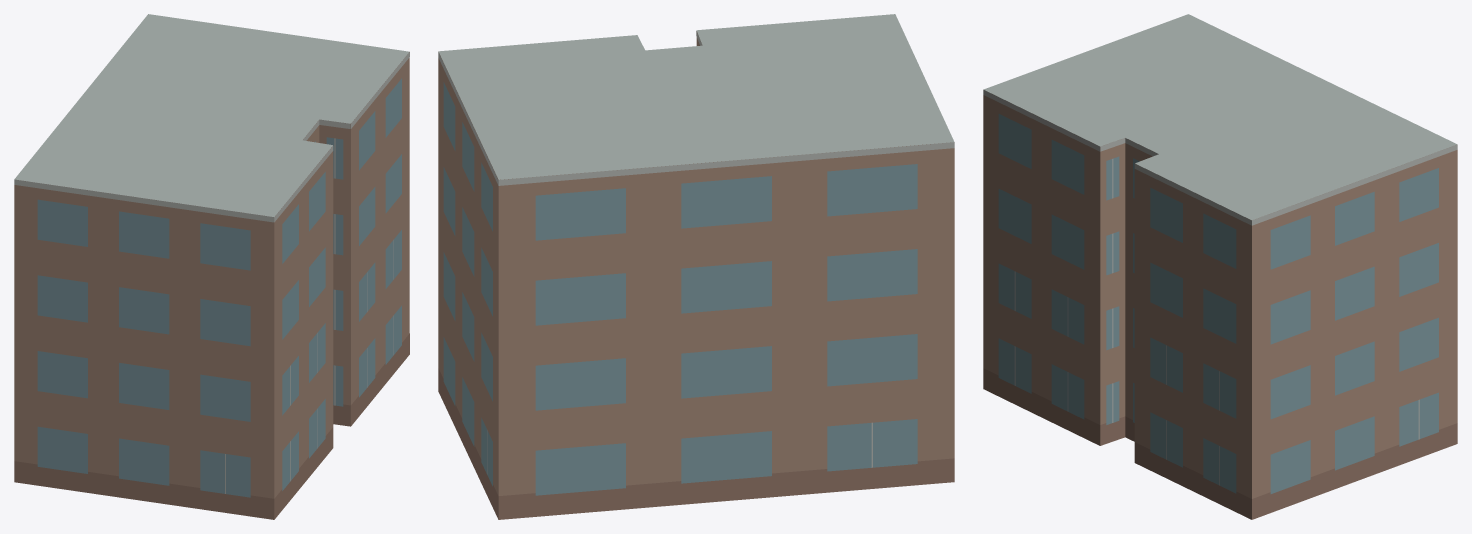
Rendered from survey-upis-32843761.glb.
3 renders of one model, left to right at view 1: azimuth 30°, elevation 25°; view 2: azimuth 150°, elevation 25°; view 3: azimuth 270°, elevation 25°, orthographic. The views are drawn at different scales.
Visible parts, largest first — view 1: survey-upis-32843761.tmp; view 2: survey-upis-32843761.tmp; view 3: survey-upis-32843761.tmp.
Boxes of the visible parts, left/top/right/bottom form: survey-upis-32843761.tmp: left=14, top=14, right=409, bottom=519; survey-upis-32843761.tmp: left=438, top=14, right=954, bottom=519; survey-upis-32843761.tmp: left=983, top=14, right=1457, bottom=519.
Size of the model in its own units: 20.3 by 13.73 by 19.71.
